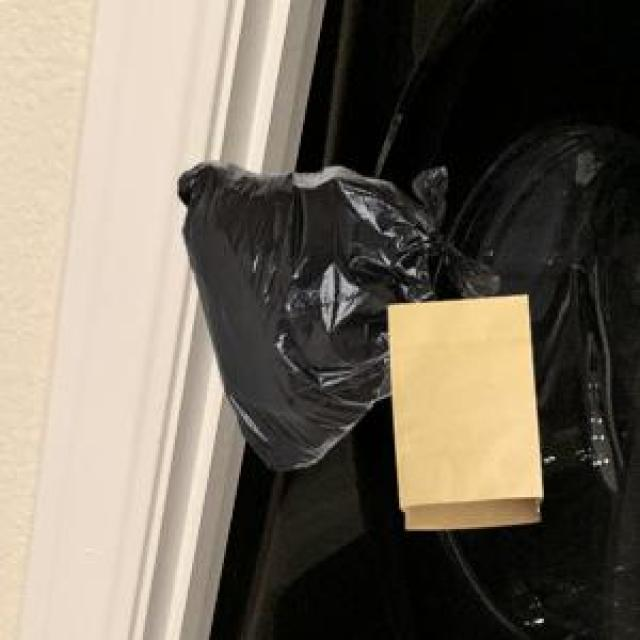miscellaneous trash: (175, 158, 495, 465)
paper: (384, 290, 538, 525)
